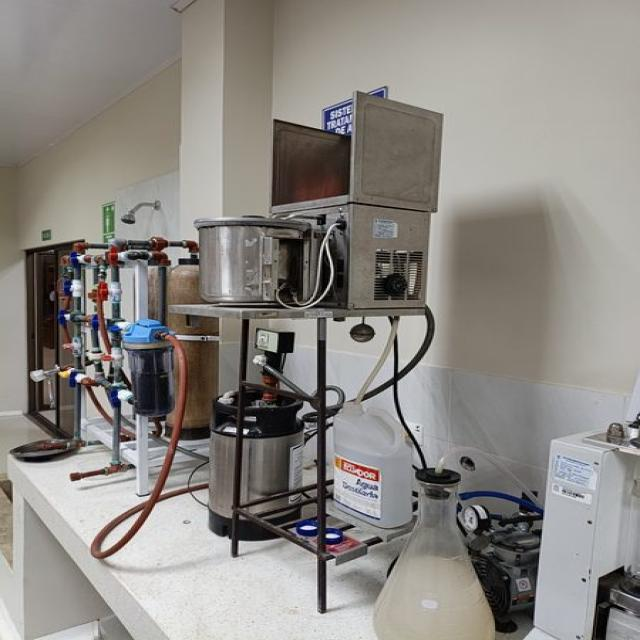Destilador_de_Agua_Continuo_Metalico: (172, 92, 441, 611)
